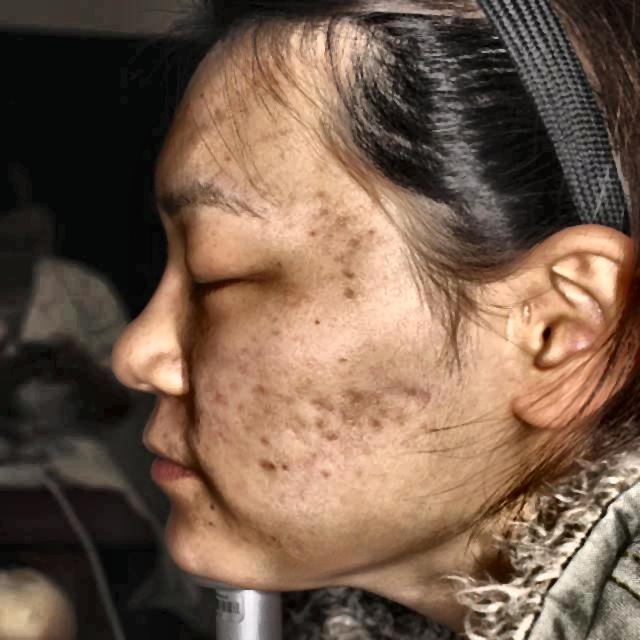comedone: (200, 384, 235, 420), (253, 454, 287, 485)
